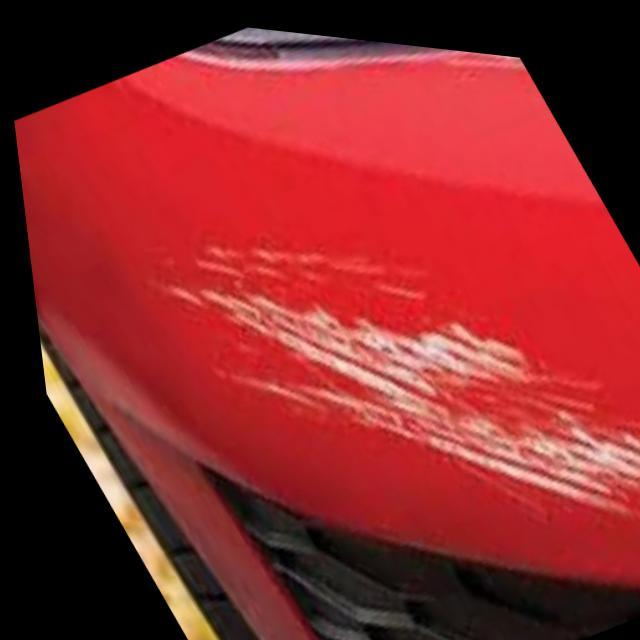rub: (146, 235, 640, 521)
